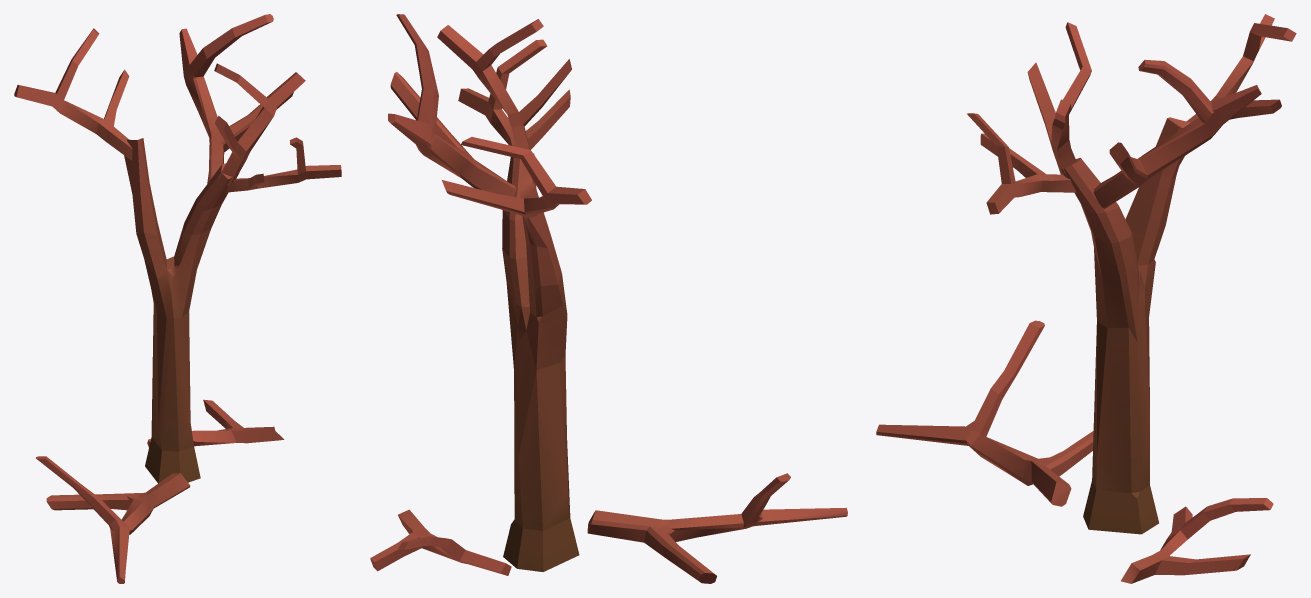
3 views of the same model, side by side, from view 1: azimuth 30°, elevation 25°; view 2: azimuth 150°, elevation 25°; view 3: azimuth 270°, elevation 25° (orthographic). The views are drawn at different scales.
Visible parts, largest first — view 1: TreeDead2; view 2: TreeDead2; view 3: TreeDead2.
Boxes of the visible parts, <box> form: TreeDead2: <box>14,14,341,583</box>; TreeDead2: <box>370,14,847,583</box>; TreeDead2: <box>876,14,1296,583</box>.
Size of the model in its own units: 355 by 500 by 362.
Materials: 1 (1 with a texture image).
